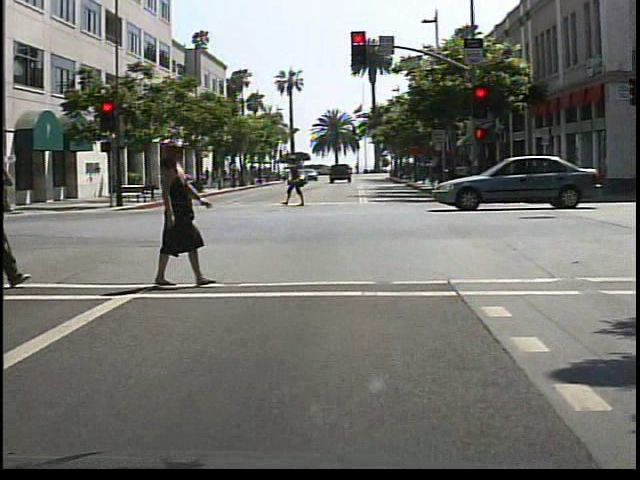person: (145, 136, 222, 287), (1, 144, 18, 294), (284, 159, 313, 208), (174, 163, 188, 189)
